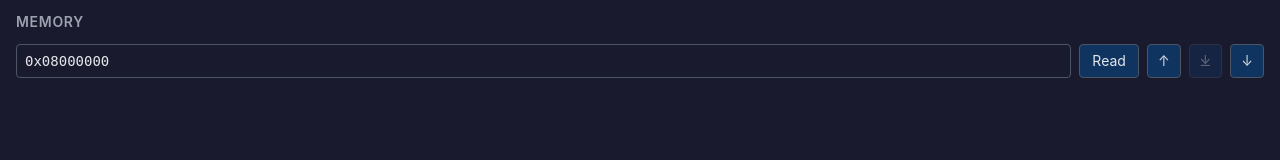
Test: MemoryViewer › rejects an address that is not a number
Type "not-an-address" into the field named "Address" at (544, 61), box 16,44 -> 1071,78
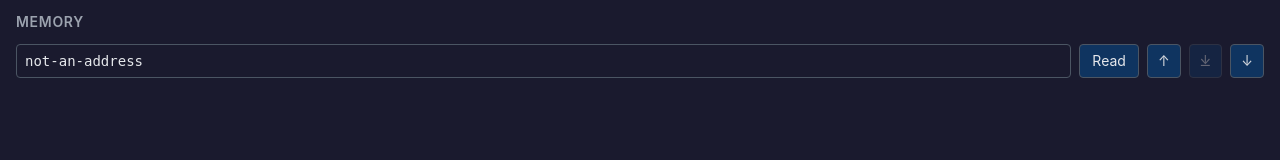
Click the button "Read" at (1109, 61), box 1079,44 -> 1139,78
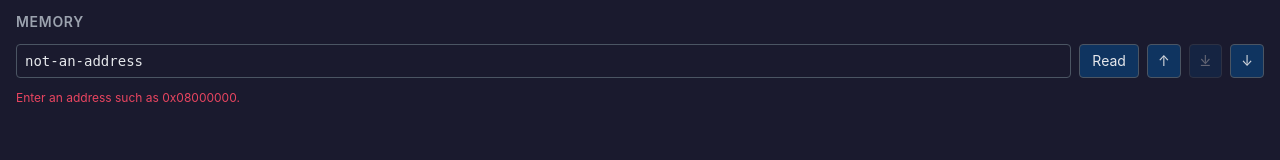
Expected: the text "Enter an address such as 0x08000000." is shown, 16,90 -> 240,105
